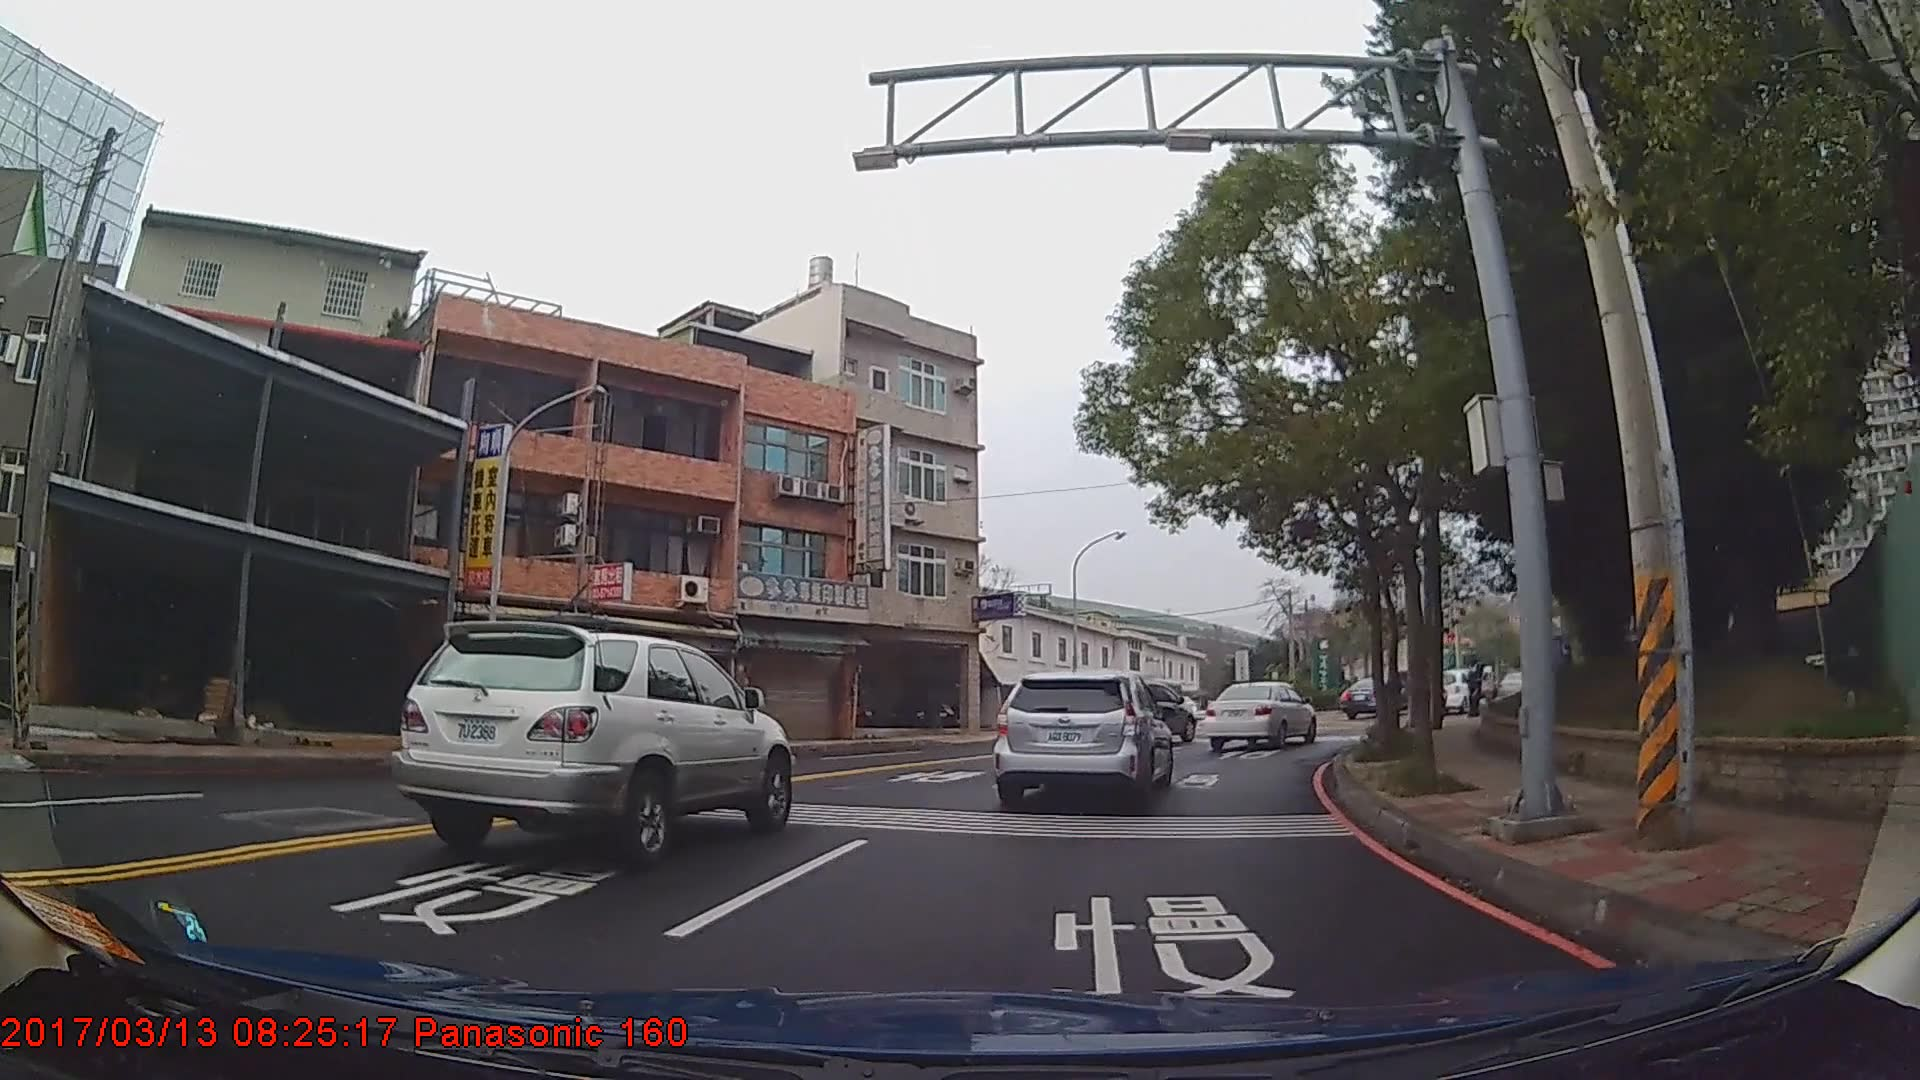vehicle: (392, 618, 793, 866), (984, 666, 1168, 810), (1197, 679, 1315, 750), (1336, 676, 1403, 717)
